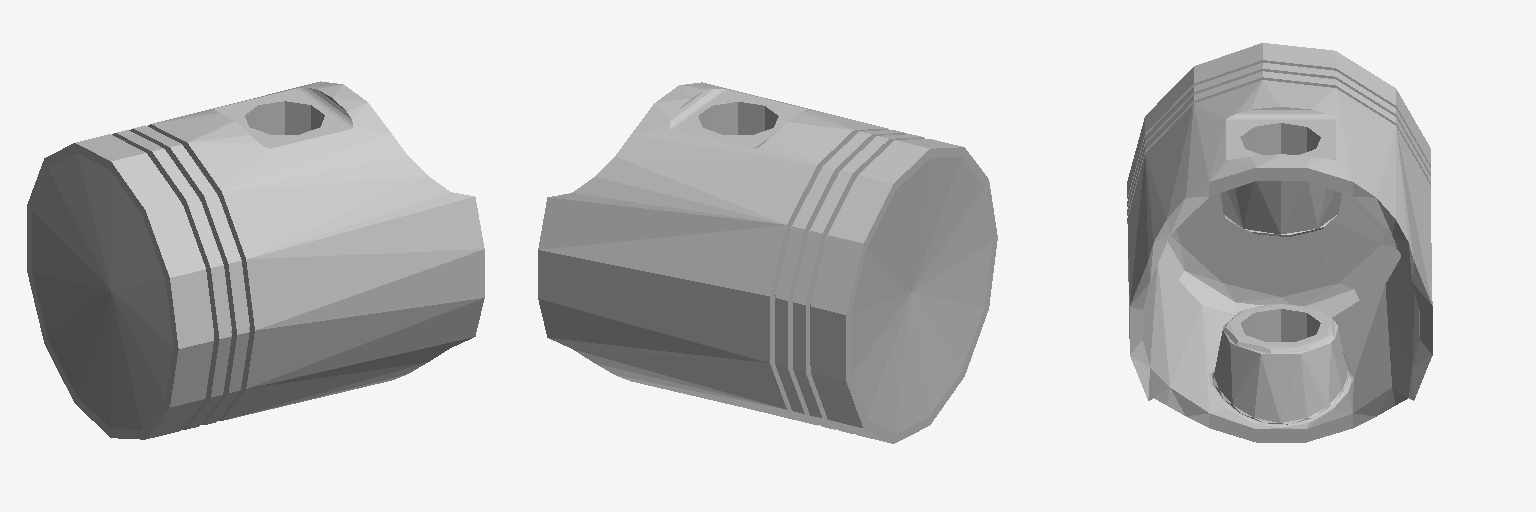
File: pistonHead4.obj
3 views of the same model, side by side, from view 1: azimuth 30°, elevation 25°; view 2: azimuth 150°, elevation 25°; view 3: azimuth 270°, elevation 25° (orthographic).
Visible parts, largest first — view 1: Bryła1; view 2: Bryła1; view 3: Bryła1.
Part boxes in pixels (x1,y1,x2,y2): Bryła1: (27,81,484,439); Bryła1: (538,82,997,443); Bryła1: (1127,43,1432,442).
Bounding box in the file's own units: 17.3 × 15 × 14.88.